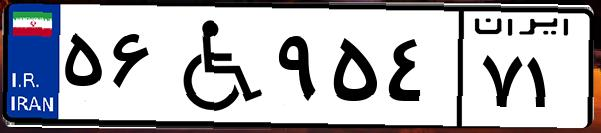1: (525, 38, 570, 115)
4: (385, 28, 445, 110)
5: (330, 28, 385, 110), (57, 26, 110, 100)
6: (110, 28, 158, 98)
7: (475, 38, 525, 113)
9: (270, 28, 330, 110)
ژ (معلولین و جانبازان): (158, 12, 270, 120)
